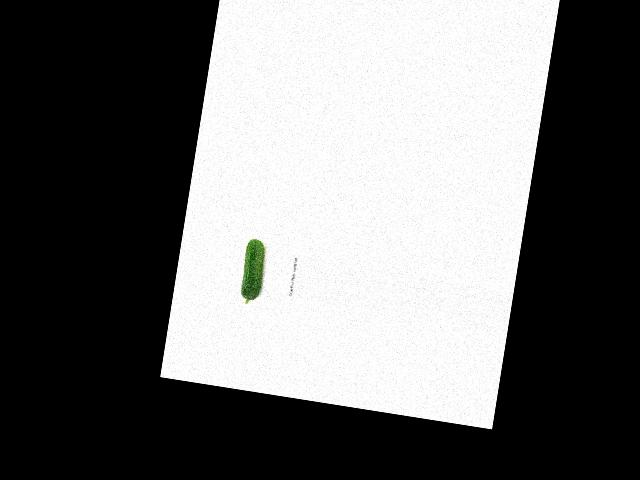cucumber: (238, 237, 268, 305)
